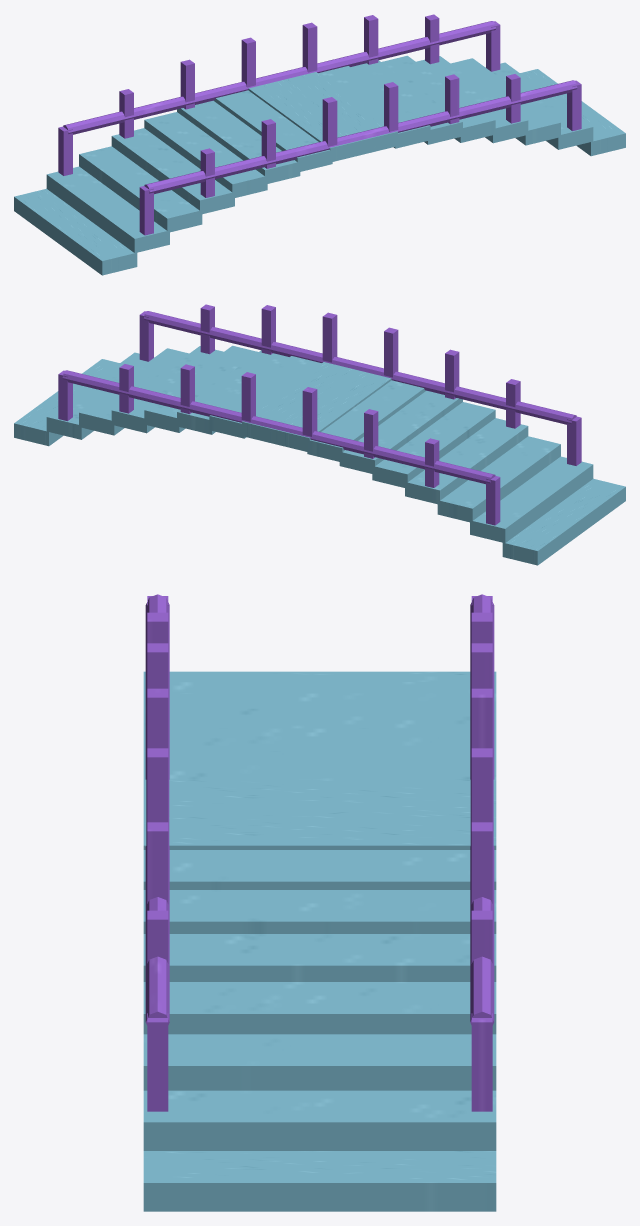
The model's file is glacier_bridge.obj.
The picture shows the model from 3 angles, top to bottom: view 1: azimuth 30°, elevation 25°; view 2: azimuth 150°, elevation 25°; view 3: azimuth 270°, elevation 25°; orthographic projection. The views are drawn at different scales.
Bounding box in the file's own units: 17.15 × 3.65 × 5.
1 material, 1 textured.
